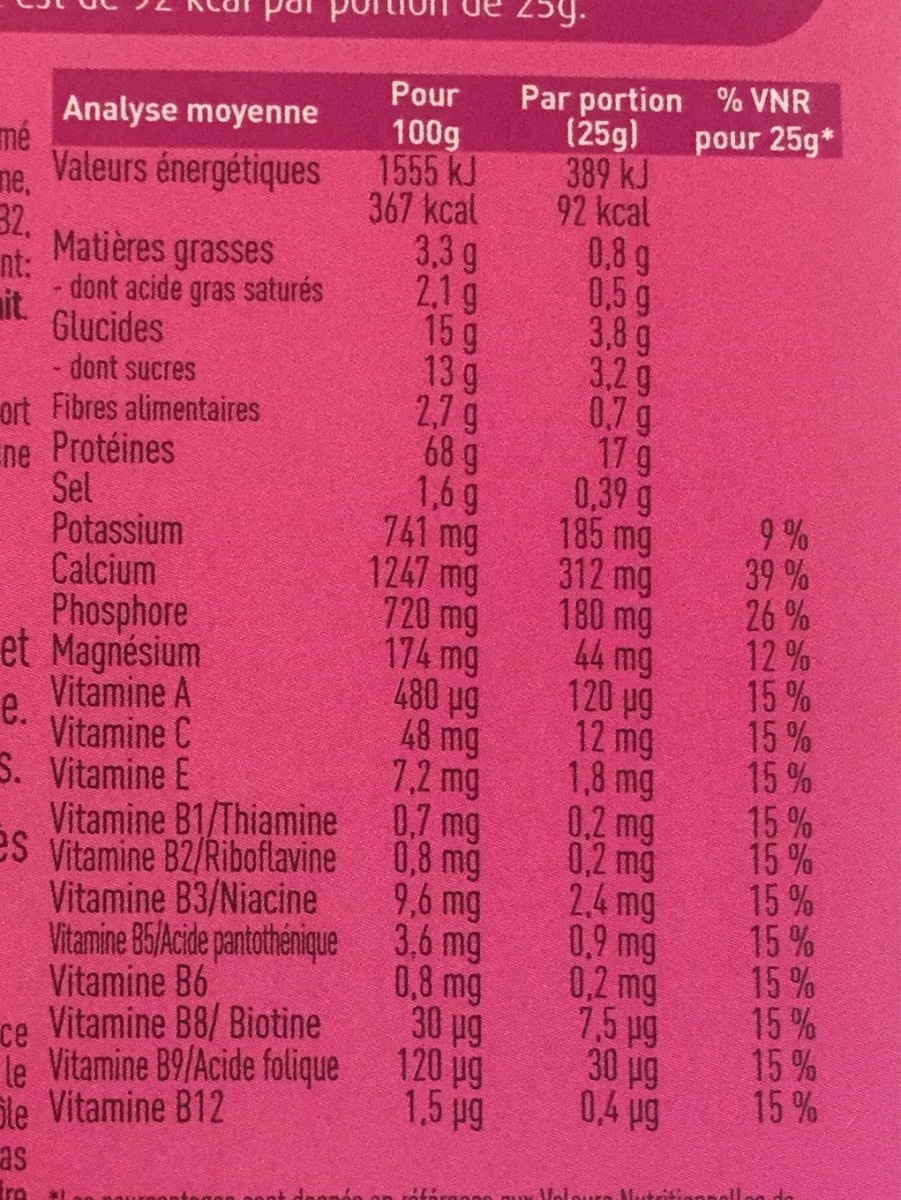column: (51, 83, 340, 1128), (516, 79, 685, 1141), (702, 79, 836, 1139), (358, 77, 483, 1137)
table: (40, 54, 852, 1152)
